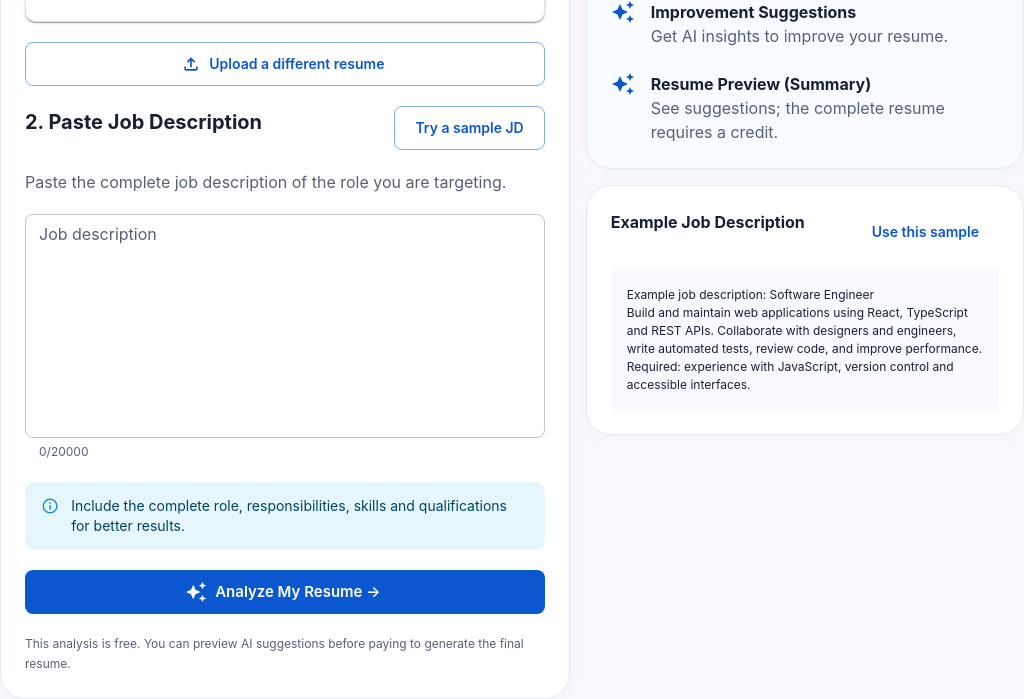
AI Resume shared workflow › selects the existing resume and validates an empty external JD without AI calls
(page scrolled)
Click the button "Analyze My Resume →".
click(285, 592)  # box [25, 570, 545, 614]
(page scrolled)
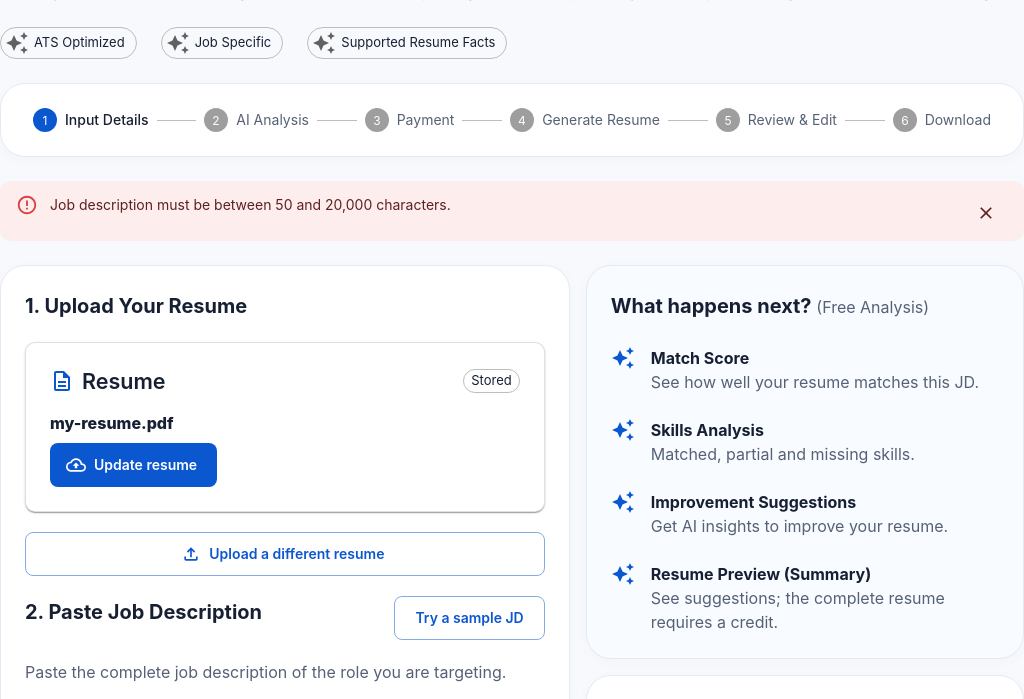
Expected: the text "Job description must be between 50 and 20,000 characters." is shown, [50, 196, 451, 213]
